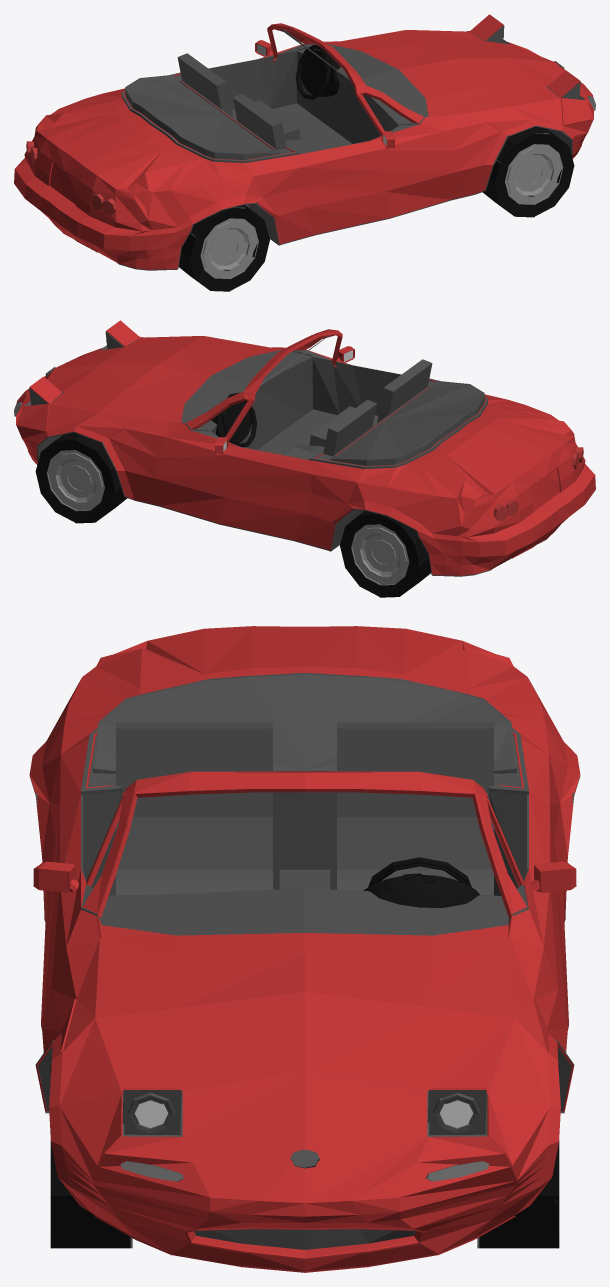
Rendered from Low Poly Cabriolet fix 1.fbx.
The picture shows the model from 3 angles, top to bottom: view 1: azimuth 30°, elevation 25°; view 2: azimuth 150°, elevation 25°; view 3: azimuth 270°, elevation 25°; orthographic projection. The views are drawn at different scales.
Parts seen in each view (by area): view 1: Object_7, Object_8, FR, BR, Object_10_1, Object_6; view 2: Object_7, Object_8, FL, BL, Object_10_1, Object_6; view 3: Object_7, Object_8, Object_10_1, FR, FL, Object_5, Object_11.
Part boxes in pixels (x1,y1,x2,y2): Object_7: (14,14,593,269); Object_8: (117,25,585,270); FR: (482,126,574,217); BR: (179,205,269,291); Object_10_1: (295,44,340,99); Object_6: (26,141,116,215); Object_7: (16,320,595,575); Object_8: (24,331,492,576); FL: (35,432,127,523); BL: (340,511,430,597); Object_10_1: (211,392,256,447); Object_6: (493,447,583,521); Object_7: (29,626,580,1272); Object_8: (29,673,580,1249); Object_10_1: (363,857,479,907); FR: (50,1064,132,1248); FL: (477,1064,559,1248); Object_5: (120,1161,489,1181); Object_11: (134,1100,473,1128).
Size of the model in its own units: 6.54 by 1.94 by 2.97.
